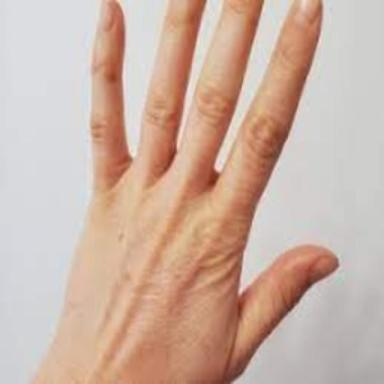normal skin: (33, 0, 338, 384)
